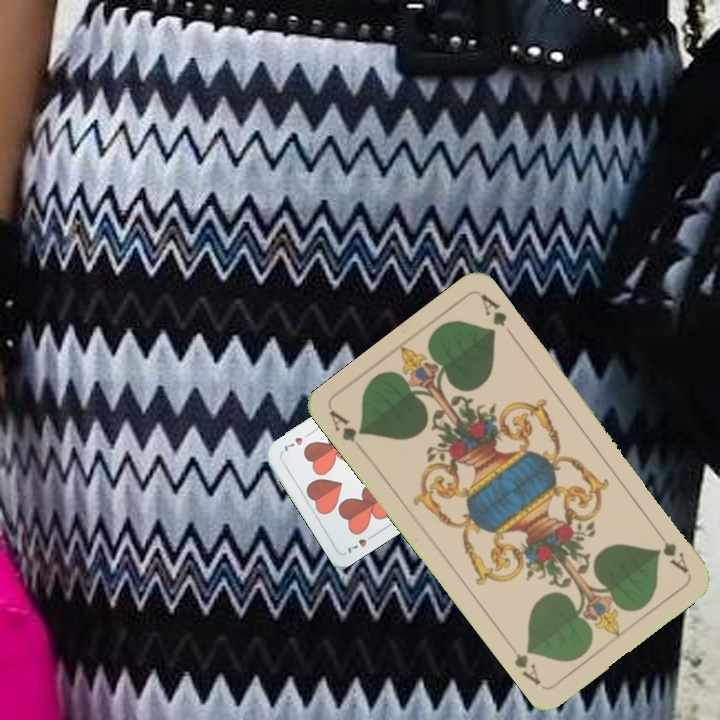GA: (650, 524, 692, 577), (326, 406, 368, 445)
H7: (344, 529, 379, 556)
